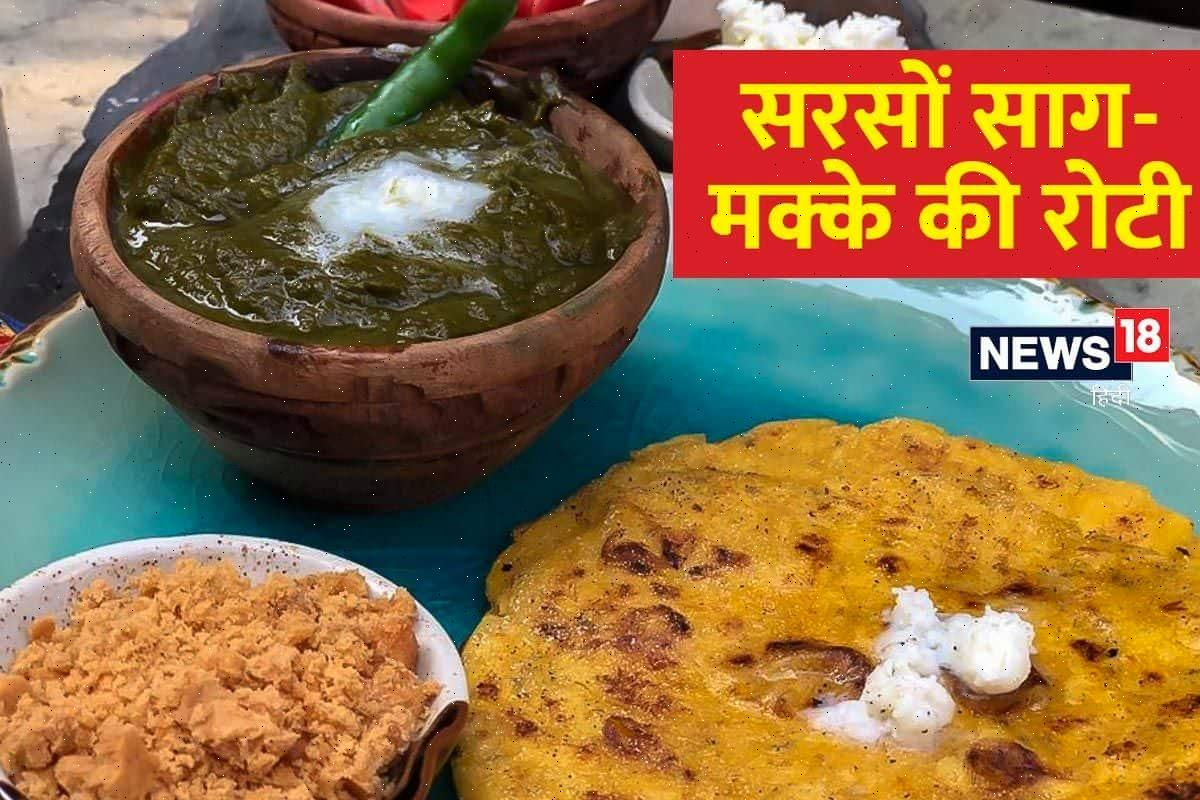saag: (149, 112, 637, 324)
